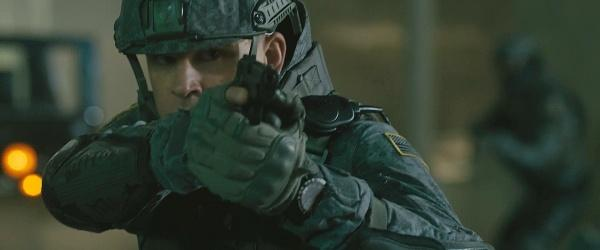Gun: (233, 57, 277, 111)
